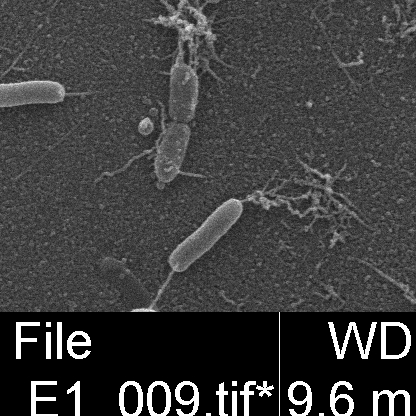cell2cell: (177, 10, 188, 69)
cell2surface: (243, 187, 335, 212), (108, 150, 155, 185), (150, 269, 173, 308), (147, 0, 177, 19), (178, 174, 213, 182), (63, 88, 98, 96)
regular: (170, 197, 245, 269), (153, 122, 189, 185), (0, 82, 61, 108), (167, 67, 195, 122), (175, 0, 200, 14)
